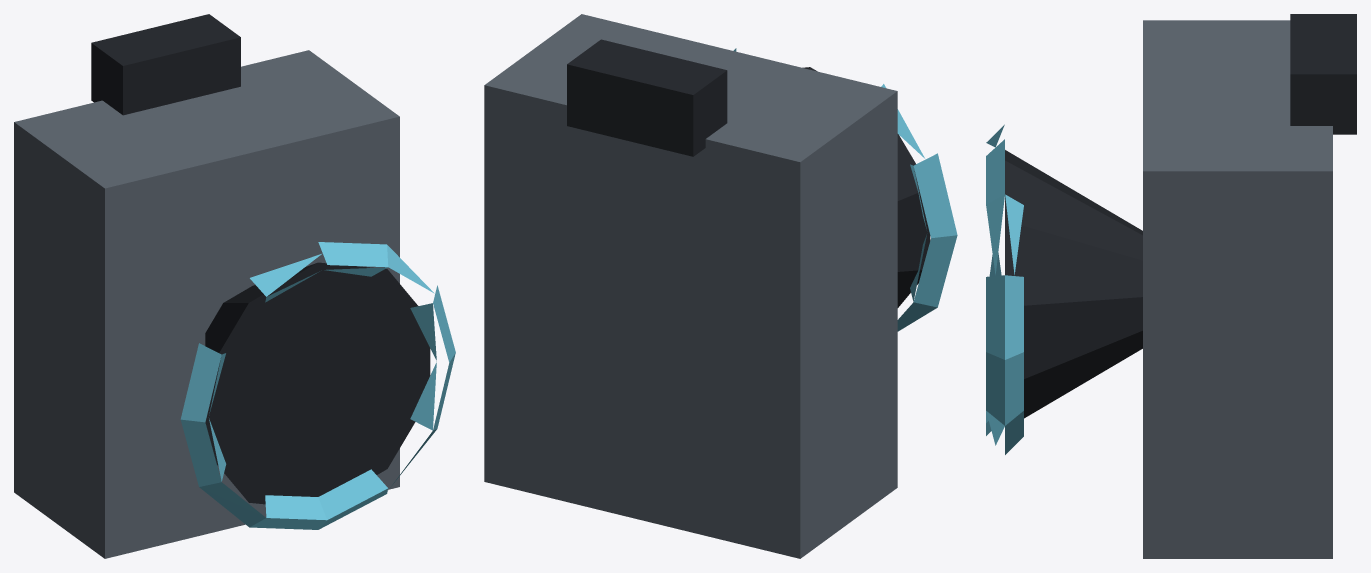
The model's file is stealth-field-generator.lod.glb.
3 views of the same model, side by side, from view 1: azimuth 30°, elevation 25°; view 2: azimuth 150°, elevation 25°; view 3: azimuth 270°, elevation 25° (orthographic). The views are drawn at different scales.
Parts seen in each view (by area): view 1: m; view 2: m; view 3: m.
Part boxes in pixels (<box>): m: <box>14,14,455,558</box>; m: <box>484,14,957,558</box>; m: <box>986,14,1356,558</box>.
Size of the model in its own units: 0.0735 by 0.1 by 0.0765.
